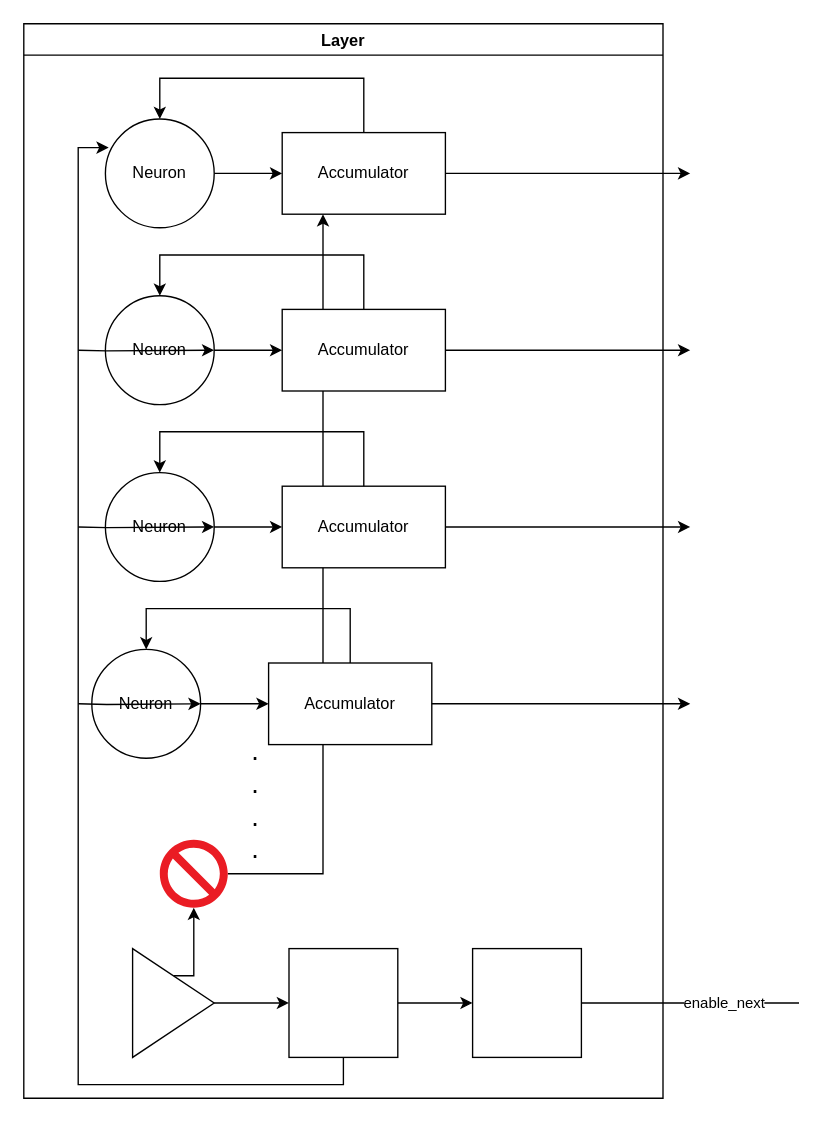
This 834x1122 diagram has some shape labels left out. Each missing label, with the centre of its shape:
Clk: the point at 172,1002
Enable Calculator: the point at 526,1002
Iterator: the point at 343,1002
